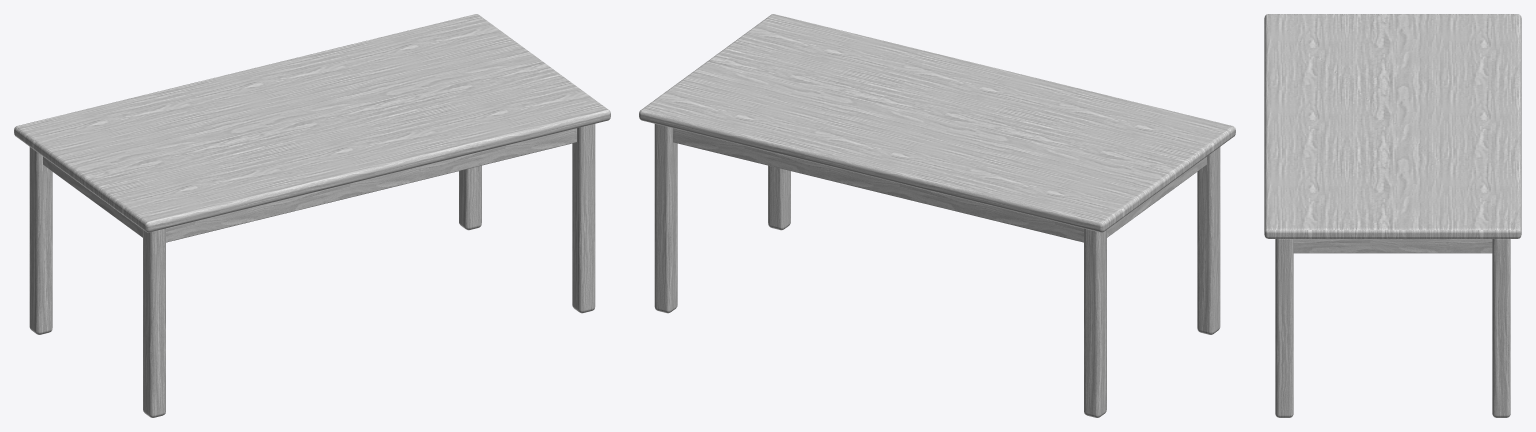
The model's file is dining-table-1.8m.gltf.
3 views of the same model, side by side, from view 1: azimuth 30°, elevation 25°; view 2: azimuth 150°, elevation 25°; view 3: azimuth 270°, elevation 25° (orthographic). The views are drawn at different scales.
Visible parts, largest first — view 1: dining-table; view 2: dining-table; view 3: dining-table.
Boxes of the visible parts, x1,y1,x2,y2 form: dining-table: (14,14,610,417); dining-table: (639,14,1235,417); dining-table: (1264,14,1521,417).
Bounding box in the file's own units: 1.8 × 0.75 × 0.9001.
Materials: 1 (1 with a texture image).
